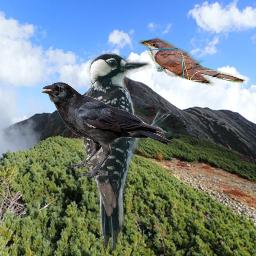Crow: (41, 81, 173, 177)
Cuckoo: (138, 36, 247, 89)
Woodpecker: (76, 52, 176, 252)
